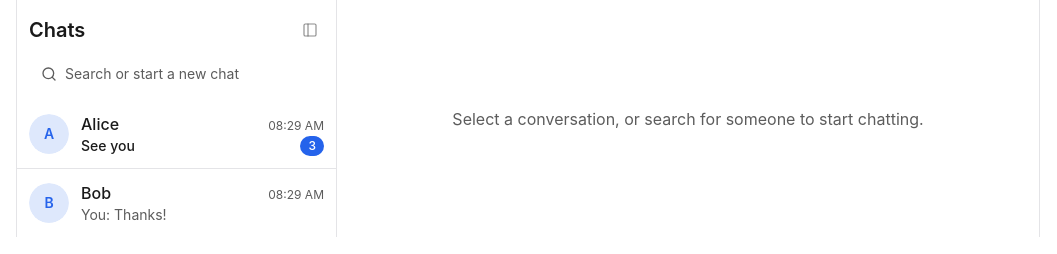
Test case: ChatsPage › collapsible sidebar › collapses to avatars with unread dots, and the choice is remembered
The image size is (1057, 254).
Expected: the list named "Conversations" is shown, [17,100,336,237]
What coordinates should you click on to do the following:
click the button named "Collapse sidebar"
I would click on:
 (310, 30)
Its box is [296,16,324,44].
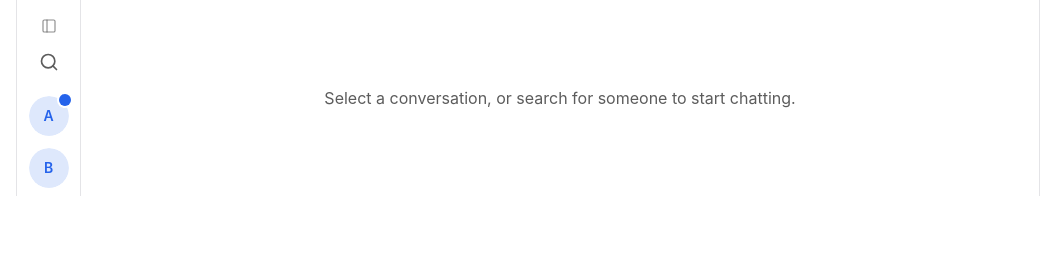
Expected: the field labelled "Search chats or people" is not shown
Expected: the button named "Expand sidebar" is collapsed, [34,12,62,40]
Expected: the button named "Alice, 3 unread" no longer shows "See you"
What coordinates should you click on to do the following:
click the button named "Alice, 3 unread"
I would click on:
 (48, 116)
Its box is [24,92,72,140].
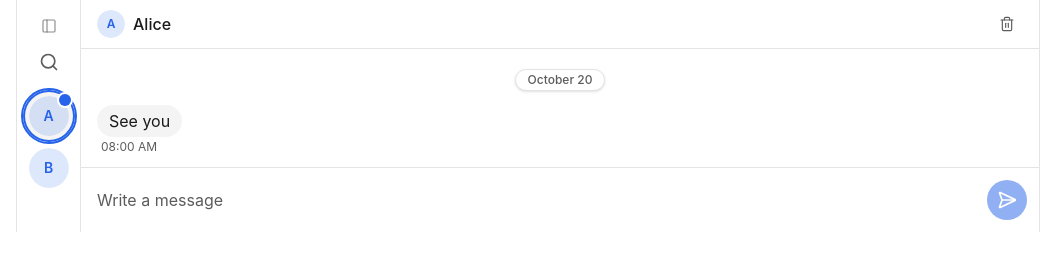
Expected: the element named "Chat with Alice" is shown
